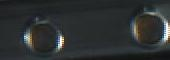joints: (127, 7, 169, 50), (21, 16, 64, 56)
